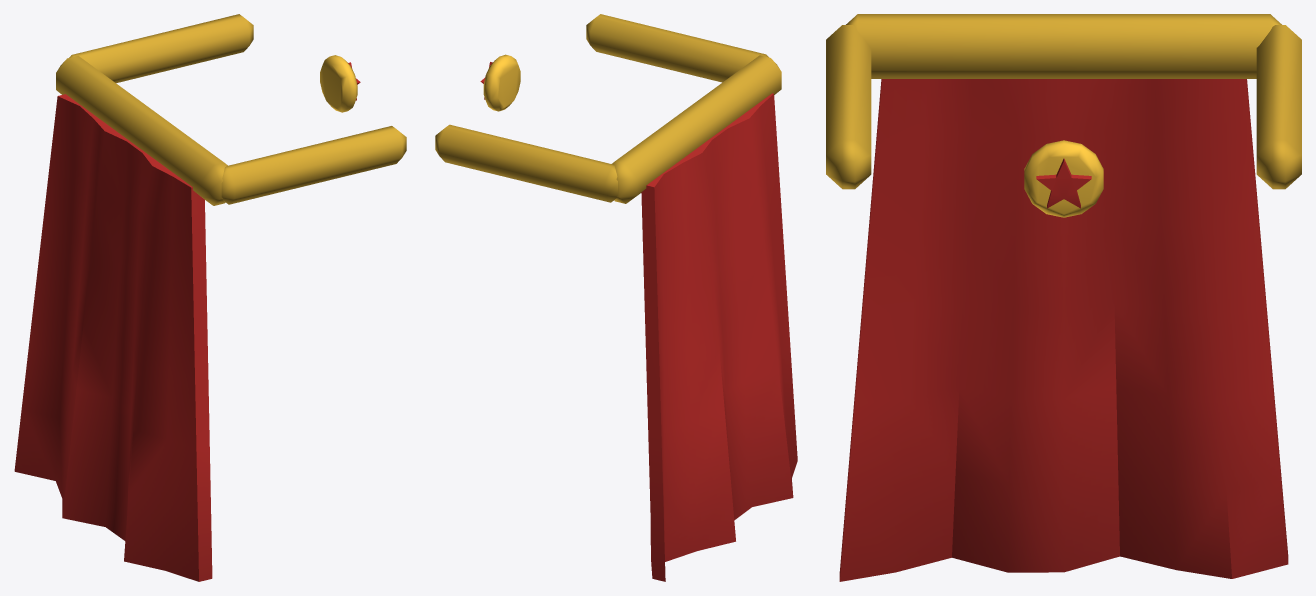
File: SM_Acc_HeroCape.fbx
3 views of the same model, side by side, from view 1: azimuth 30°, elevation 25°; view 2: azimuth 150°, elevation 25°; view 3: azimuth 270°, elevation 25° (orthographic). The views are drawn at different scales.
Visible parts, largest first — view 1: SM_Acc_HeroCape; view 2: SM_Acc_HeroCape; view 3: SM_Acc_HeroCape.
Part boxes in pixels (x1,y1,x2,y2): SM_Acc_HeroCape: [14, 14, 406, 581]; SM_Acc_HeroCape: [435, 14, 797, 581]; SM_Acc_HeroCape: [826, 14, 1301, 581].
Bounding box in the file's own units: 48.77 × 71.54 × 53.05.
